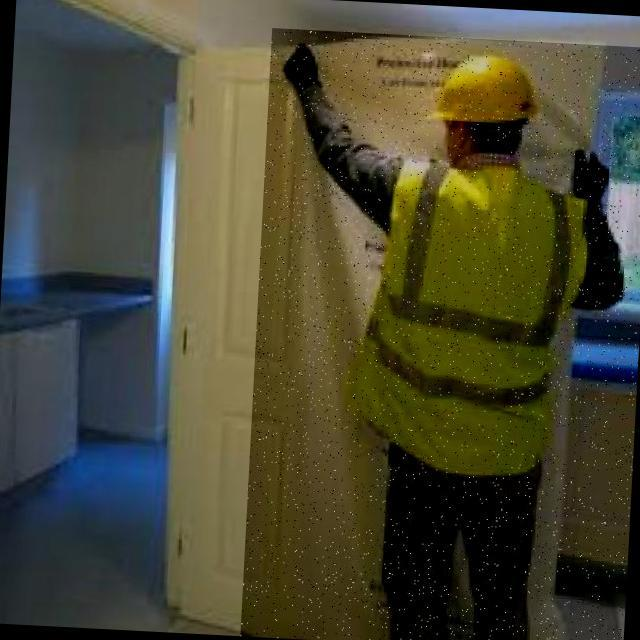Gloves: (567, 143, 616, 215), (282, 39, 325, 93)
Helmet: (426, 51, 542, 134)
Person: (256, 14, 640, 640)
Safety Vest: (351, 150, 592, 483)
